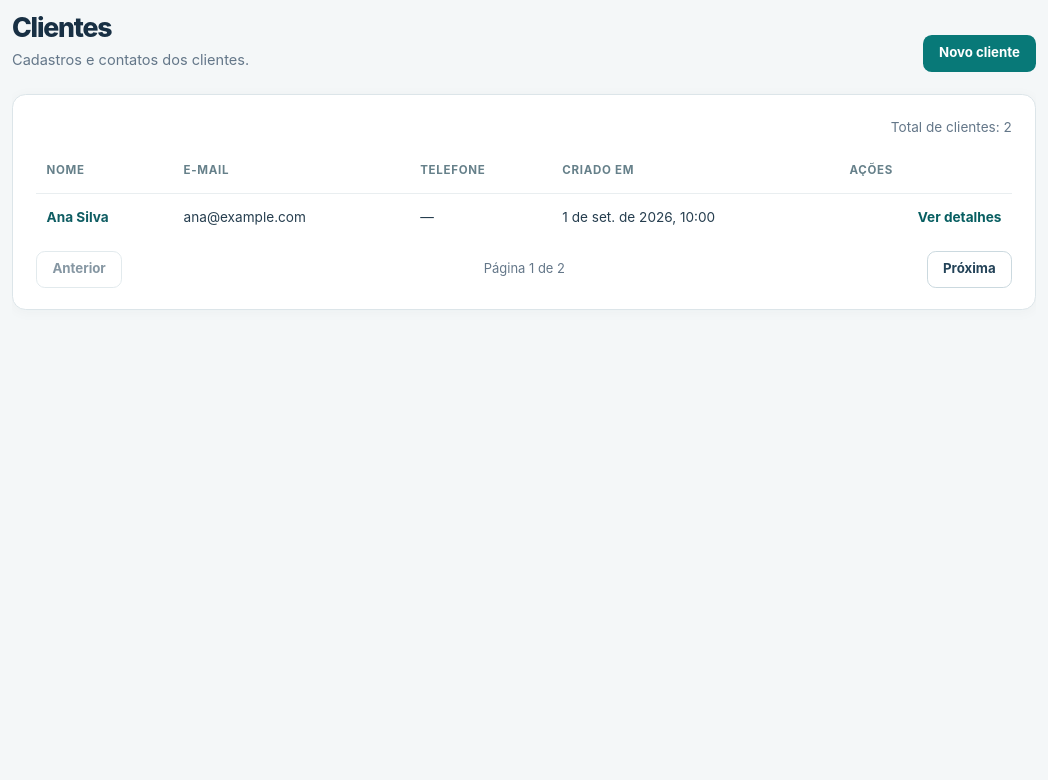
CustomersPage › validates and creates a customer with the API payload
Expected: the link "Ana Silva" is shown, x1=47 y1=209 x2=109 y2=225
Click the button "Novo cliente". click: (979, 53)
box: x1=923 y1=35 x2=1036 y2=72
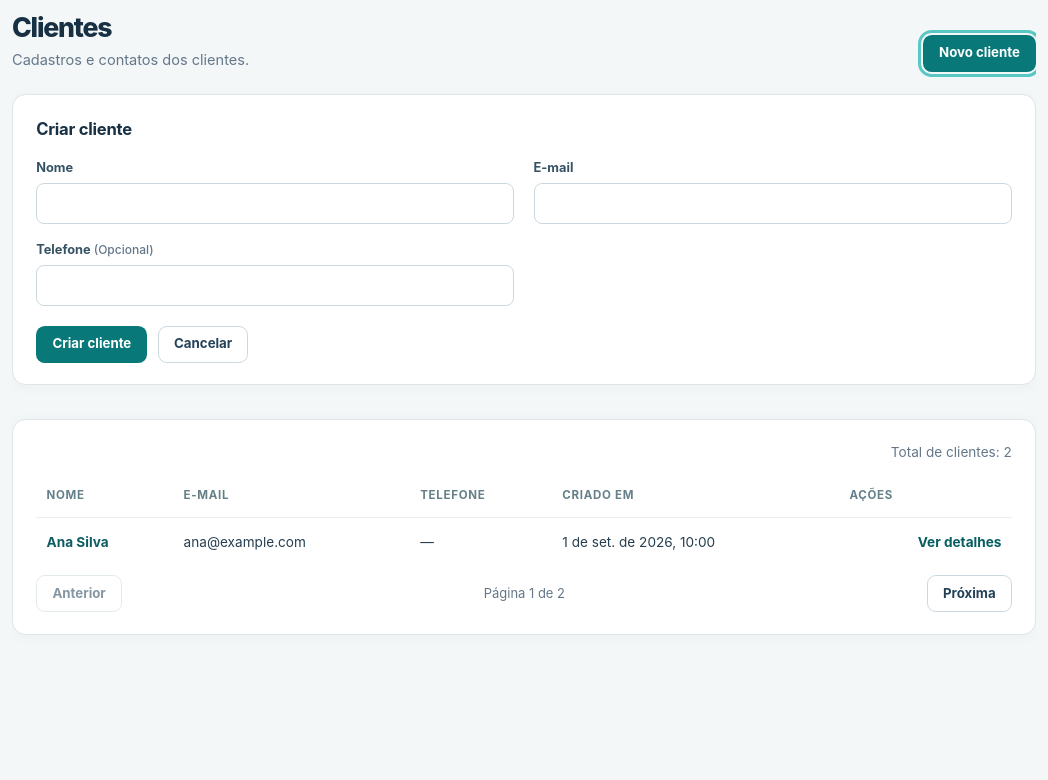
Type "Nova Cliente" into the field labelled "Nome". click: (275, 203)
box: x1=36 y1=182 x2=514 y2=224
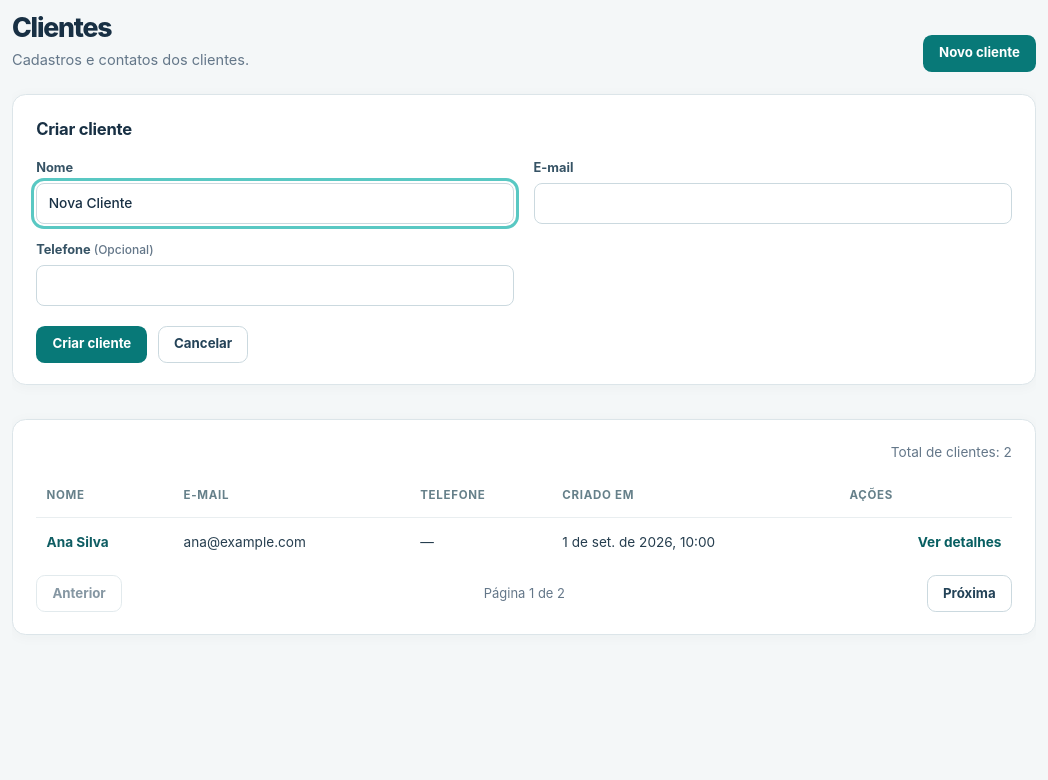
Type "invalido" into the field labelled "E-mail". click: (773, 203)
box: x1=534 y1=182 x2=1012 y2=224
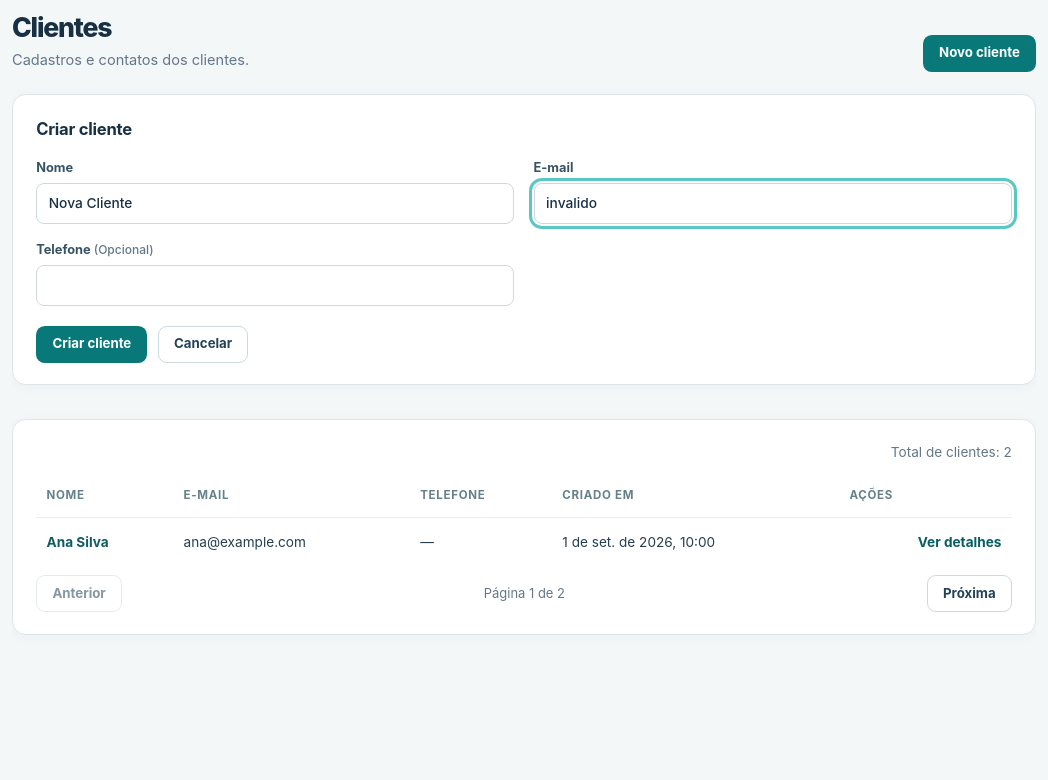
Click the button "Criar cliente". click: (92, 344)
box: x1=36 y1=326 x2=148 y2=363
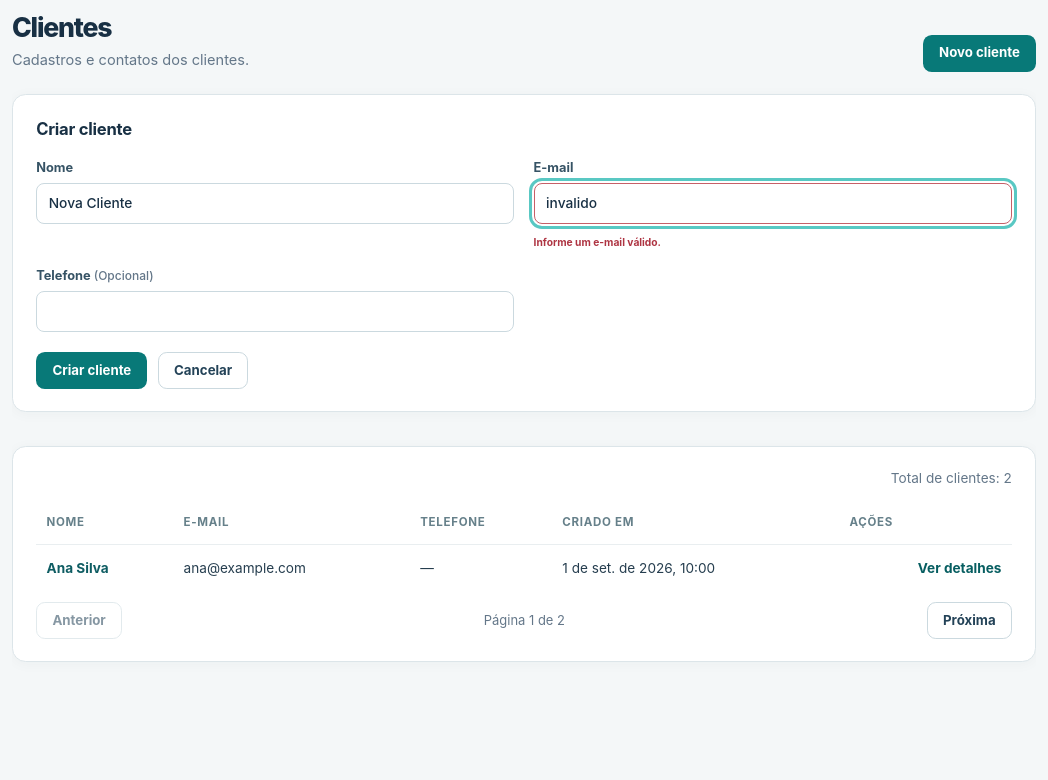
Now the text "Informe um e-mail válido." is shown, box x1=534 y1=236 x2=661 y2=248
Replace the text in the field labelled "E-mail" with "nova@example.com". click: (773, 203)
box: x1=534 y1=182 x2=1012 y2=224
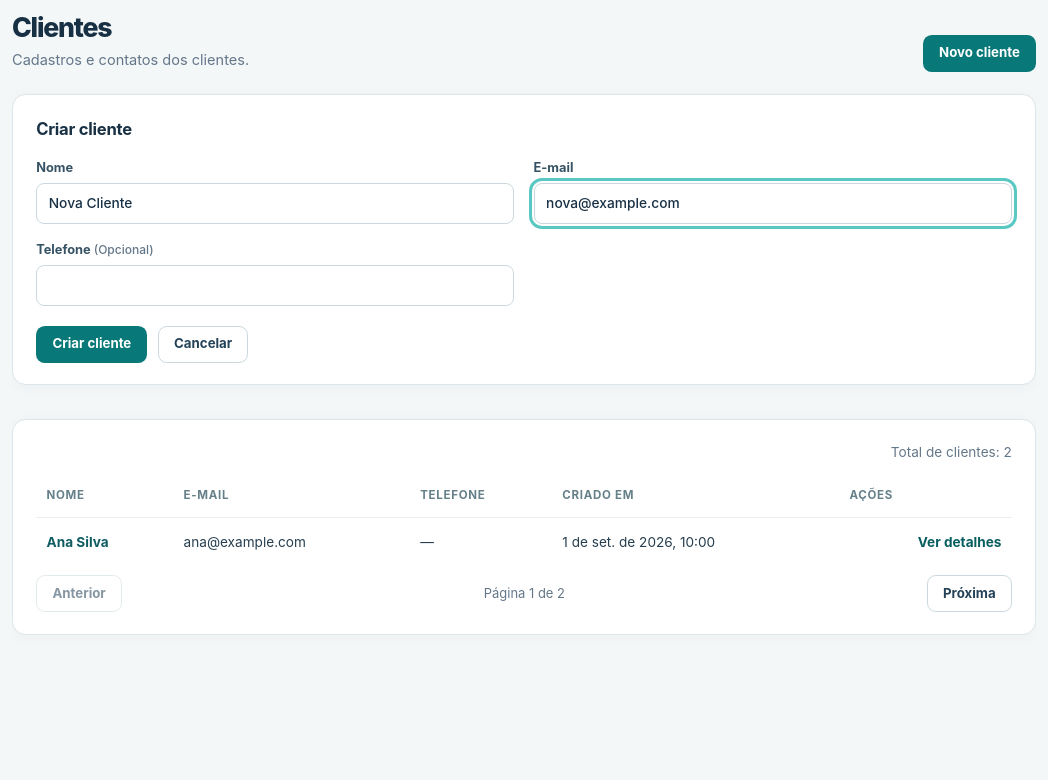
Click the button "Criar cliente". click: (92, 344)
box: x1=36 y1=326 x2=148 y2=363
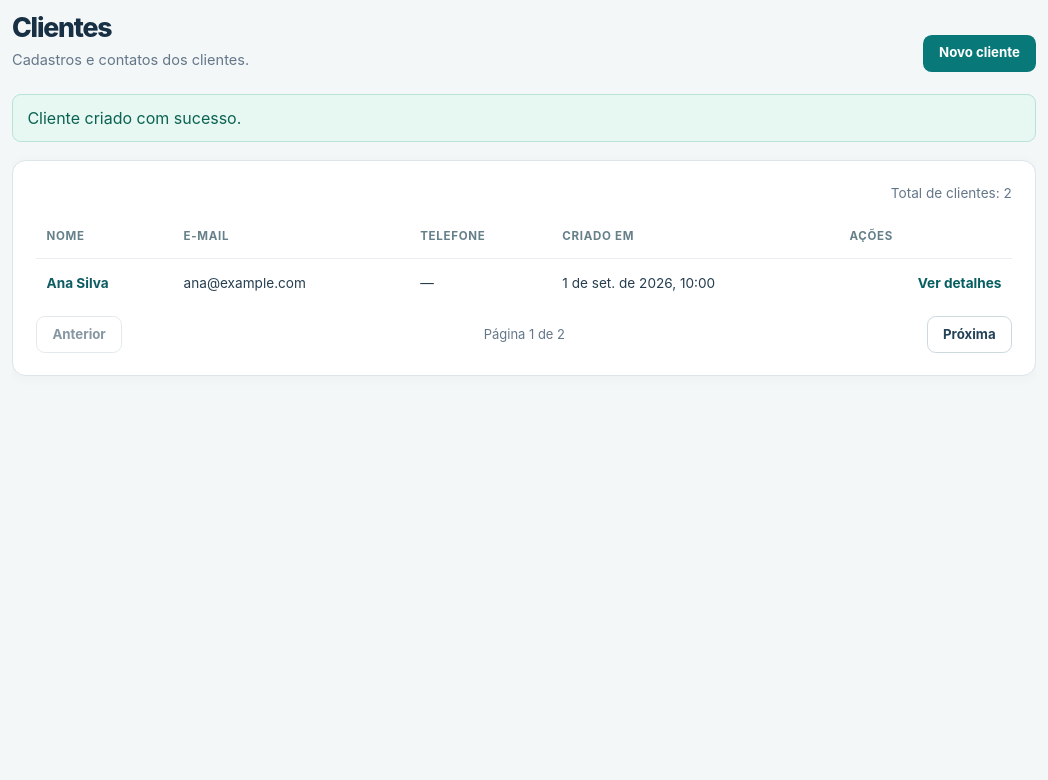
Now the message reads "Cliente criado com sucesso.", box x1=27 y1=108 x2=241 y2=128
